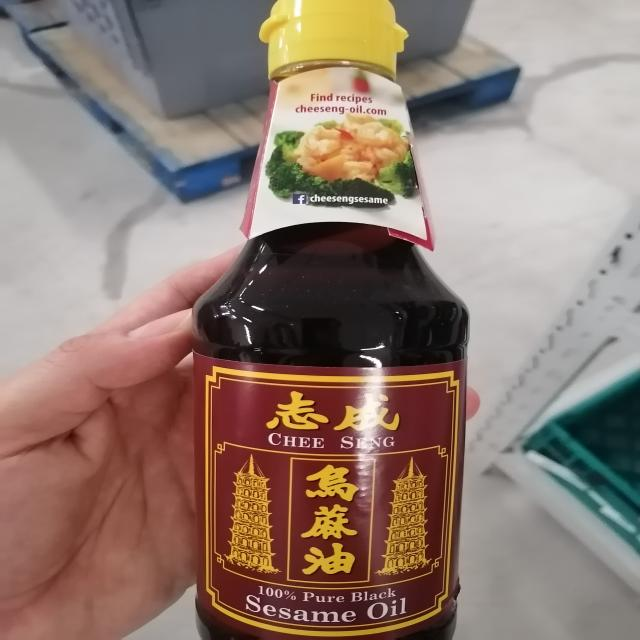object_name: (203, 4, 461, 638)
